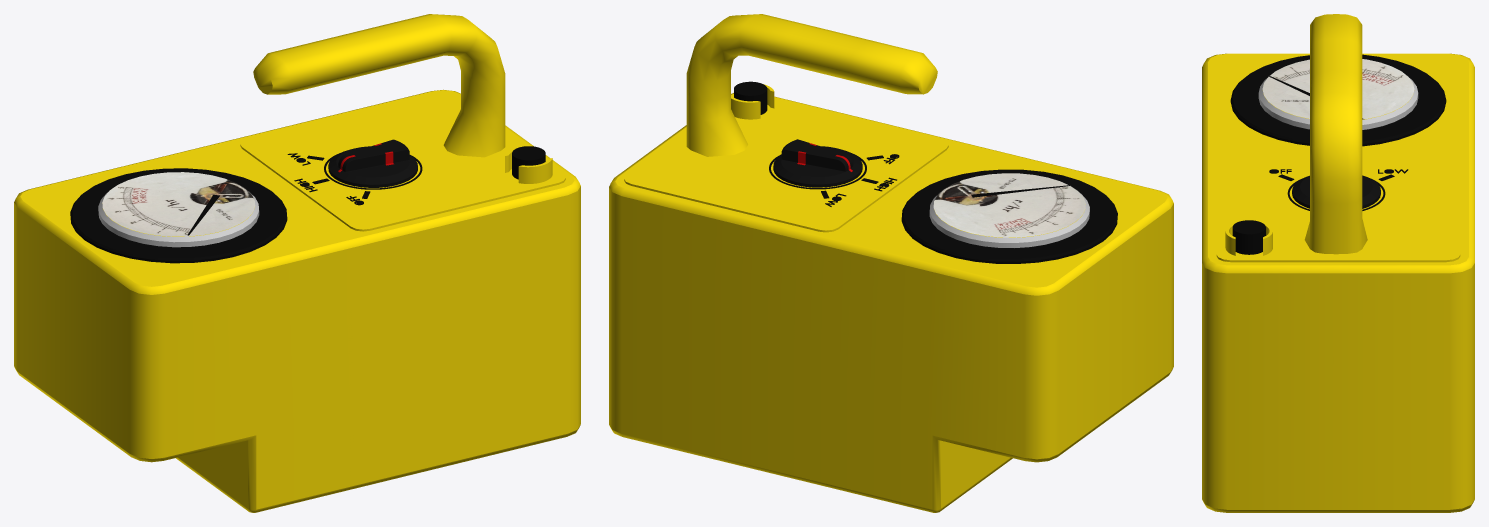
The model's file is geiger_counter.fbx.
The picture shows the model from 3 angles, left to right: view 1: azimuth 30°, elevation 25°; view 2: azimuth 150°, elevation 25°; view 3: azimuth 270°, elevation 25°; orthographic projection.
Parts seen in each view (by area): view 1: geiger_counter; view 2: geiger_counter; view 3: geiger_counter.
Part boxes in pixels (x1=…): geiger_counter: x1=14, y1=14, x2=580, y2=512; geiger_counter: x1=609, y1=14, x2=1173, y2=512; geiger_counter: x1=1202, y1=14, x2=1474, y2=512.
Bounding box in the file's own units: 376 × 310 × 200.
8 materials, 1 textured.
